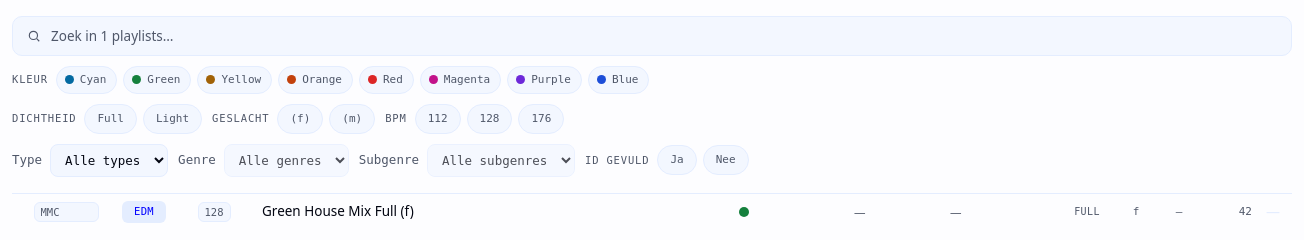
Test: PlaylistManager -- 'wis filters' › toont de knop pas zodra er een actief filter/zoekterm is, en wist alles bij een klik
Expected: the button "Wis filters" is not shown
Type "green" into the field named "Zoek in playlistnamen" at (663, 36), box [49, 26, 1277, 46]
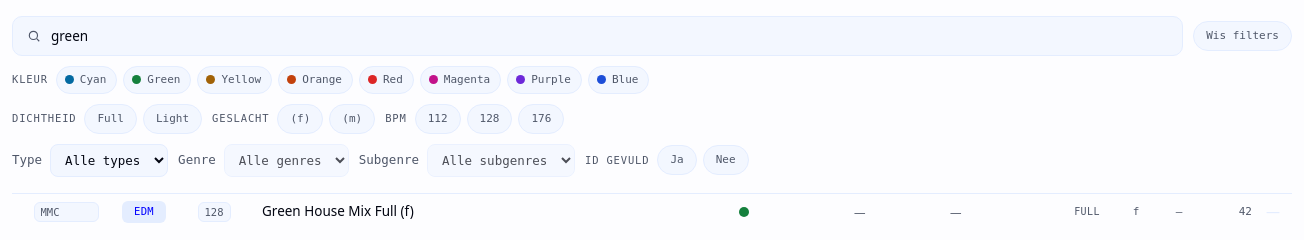
Now the button "Wis filters" is shown
Click the button "Wis filters" at (1243, 36), box [1193, 21, 1292, 51]
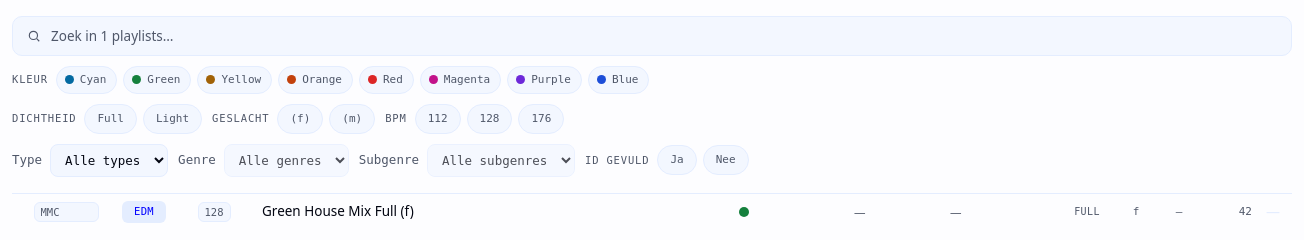
Now the button "Wis filters" is gone
Now the field named "Zoek in playlistnamen" is empty, box [49, 26, 1277, 46]
